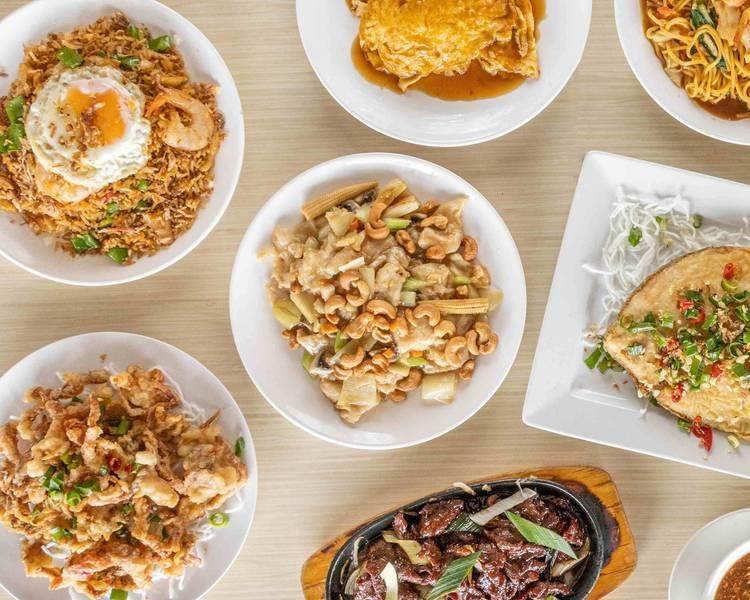Braised Crucian Carp: (228, 152, 522, 448), (518, 149, 746, 485), (3, 0, 245, 288), (2, 331, 260, 600), (289, 0, 597, 153), (309, 455, 627, 600)
